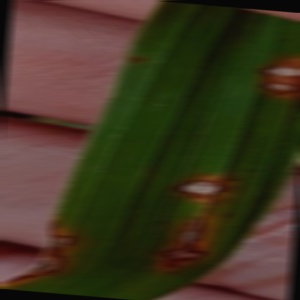Brown_Spot: (172, 154, 244, 208), (1, 250, 61, 290), (39, 211, 84, 257), (172, 215, 225, 246), (155, 243, 203, 272), (255, 56, 300, 82), (255, 80, 300, 100)
